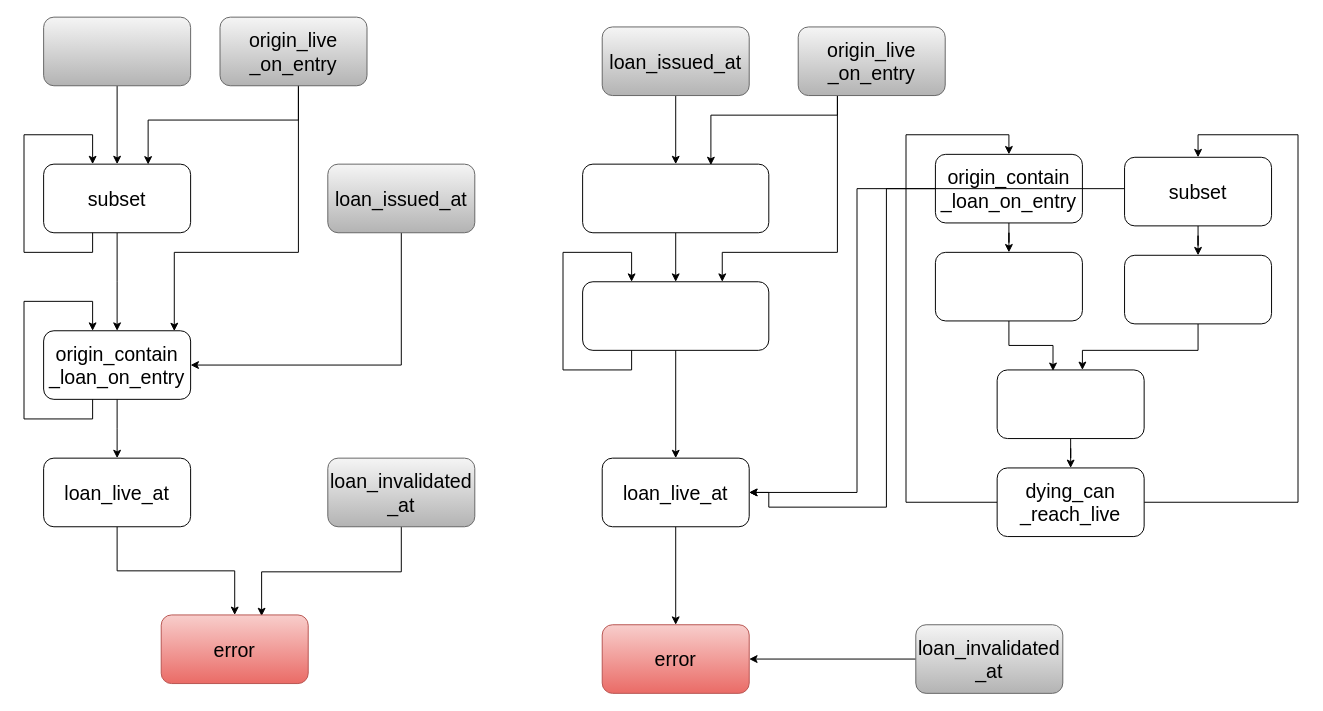
Some shapes in this 1323 by 711 pixel diagram are drawn without their labels. Each missing label, with the centre of its shape:
"dead_borrow_region _can_reach_dead" goes at point (675, 315).
"dead_borrow_region _can_reach_root" goes at point (675, 198).
"dying_can _reach_origins" goes at point (1070, 404).
"dying_region _requires" goes at point (1008, 286).
"live_to_dying _regions" goes at point (1198, 289).
"subset_base" goes at point (117, 51).
